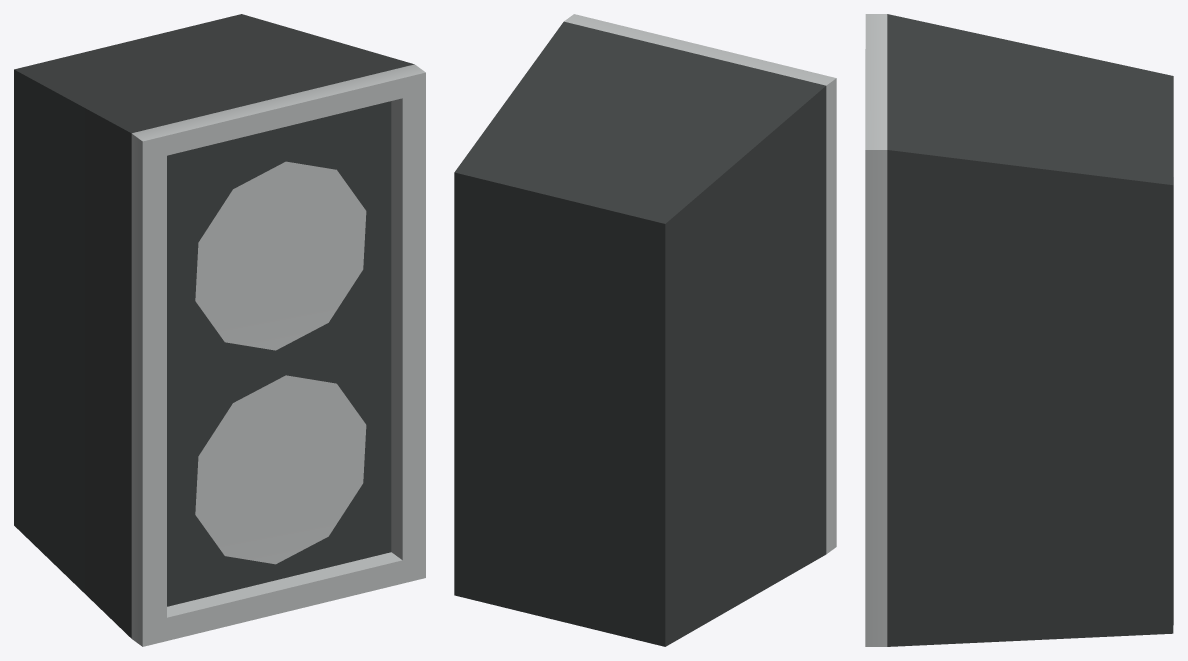
File: Speaker.glb
3 renders of one model, left to right at view 1: azimuth 30°, elevation 25°; view 2: azimuth 150°, elevation 25°; view 3: azimuth 270°, elevation 25°, orthographic. The views are drawn at different scales.
Parts seen in each view (by area): view 1: Speaker; view 2: Speaker; view 3: Speaker.
Part boxes in pixels (box(x1,y1,x2,y2)): Speaker: box(14, 14, 425, 646); Speaker: box(454, 14, 836, 646); Speaker: box(865, 14, 1173, 646).
Size of what is drawn, in the model's own units: 1.11 by 1.89 by 1.06.
Materials: 1 (1 with a texture image).
